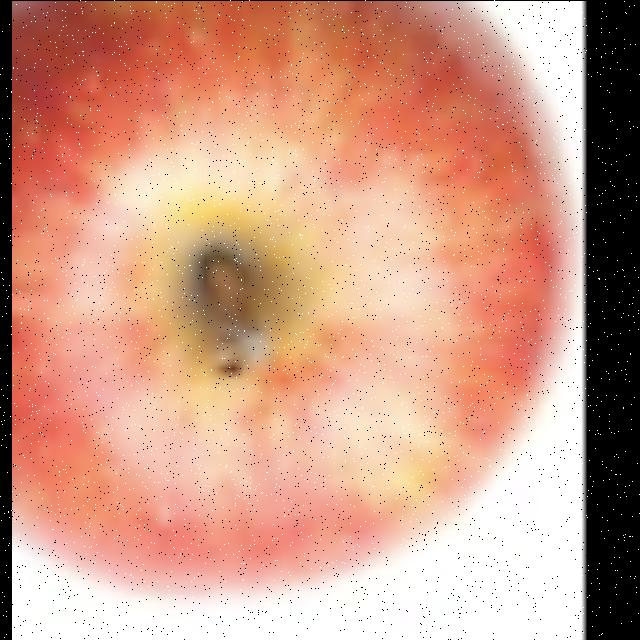Apel Segar: (11, 0, 567, 595)
